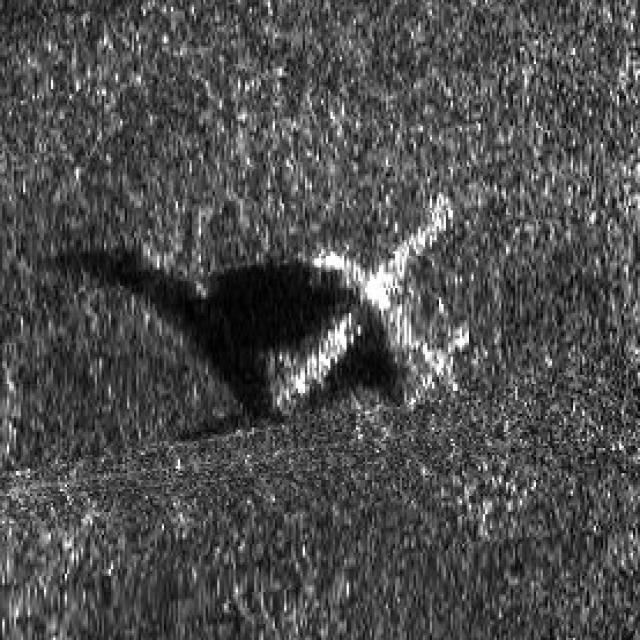plane: (139, 174, 485, 446)
